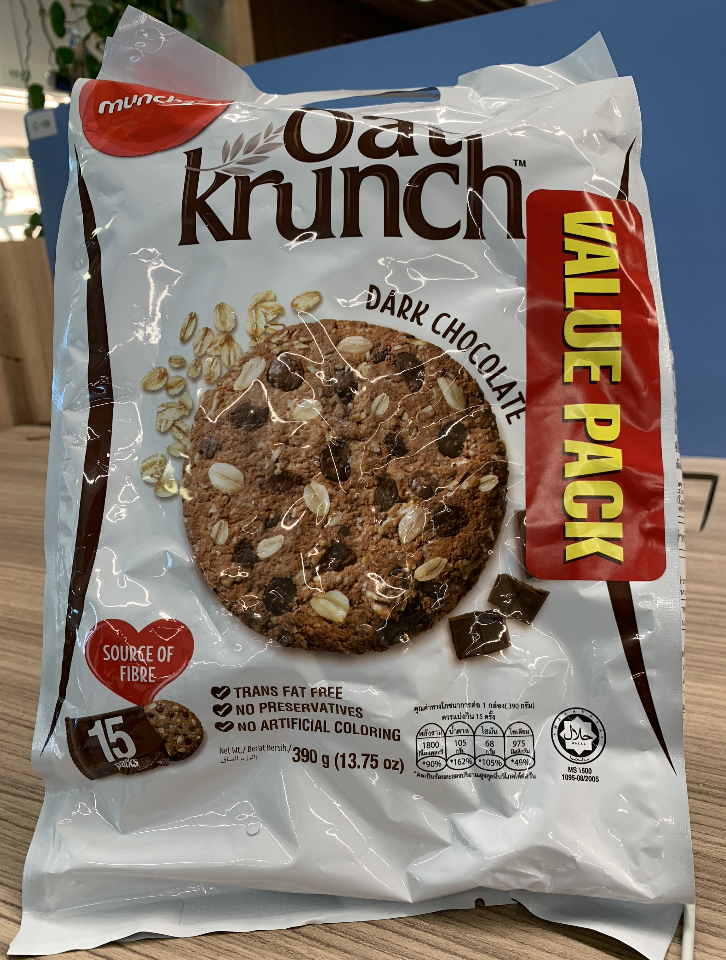cookies_150g: (90, 106, 641, 821)
